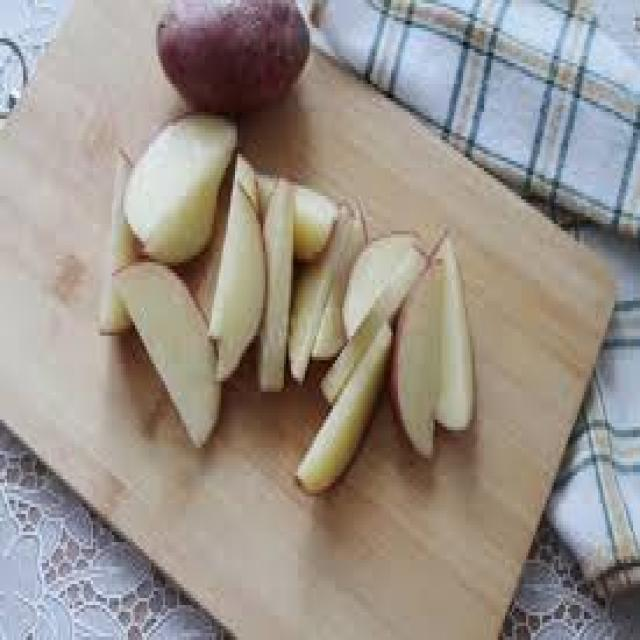Potato: (78, 116, 492, 480), (136, 0, 342, 133)
